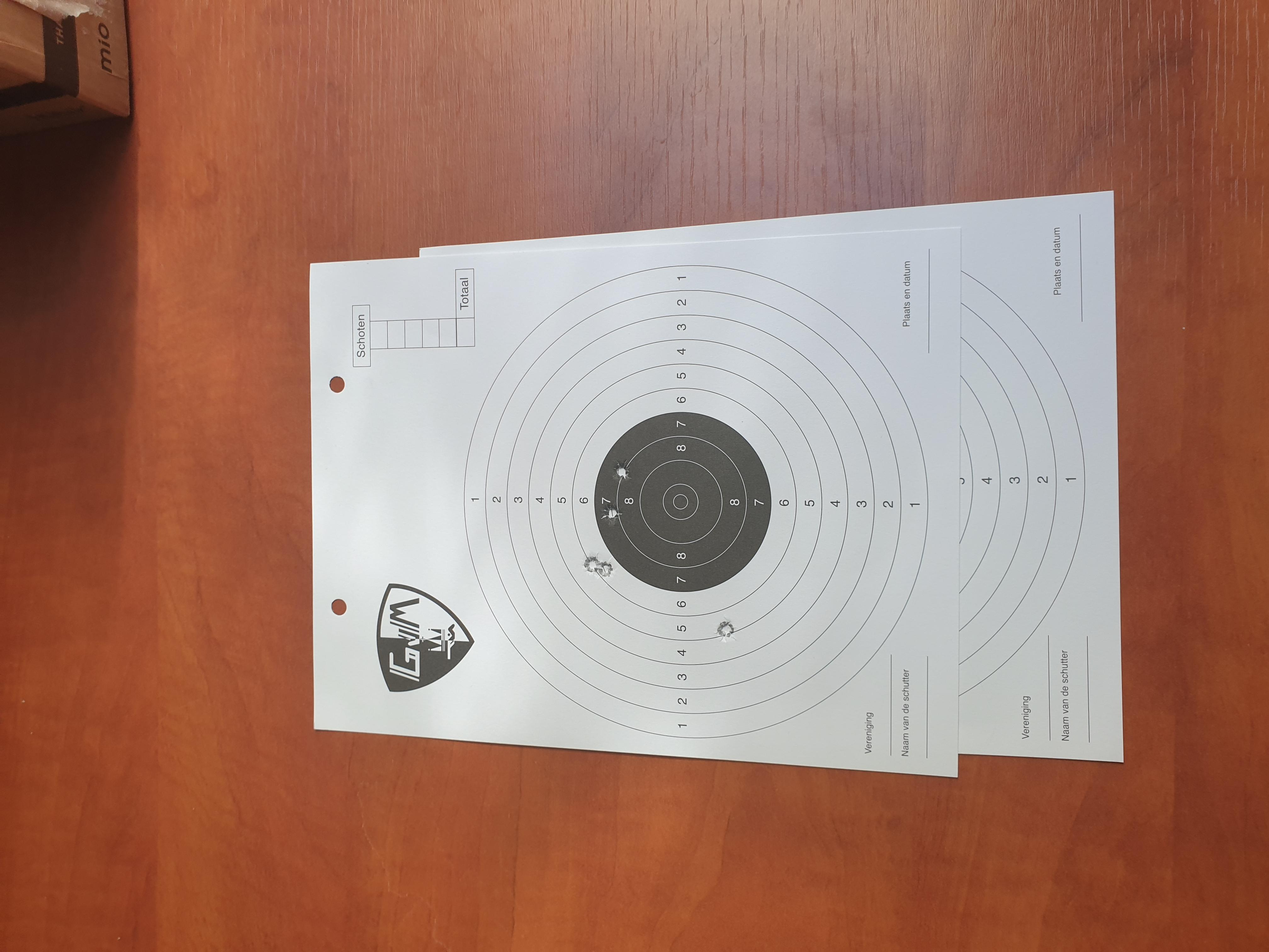hole: (532, 308, 556, 335), (646, 427, 668, 449), (638, 471, 657, 490), (671, 377, 686, 398), (655, 373, 670, 392)
